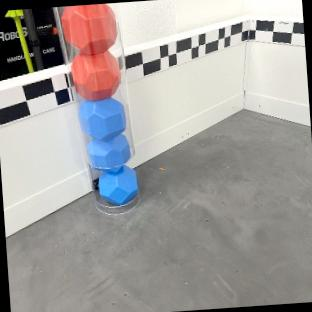Loader: (56, 3, 141, 214)
V5_BLUE: (78, 96, 126, 138), (99, 164, 137, 204), (86, 133, 130, 167)
V5_RED: (60, 3, 117, 53), (70, 49, 122, 101)
